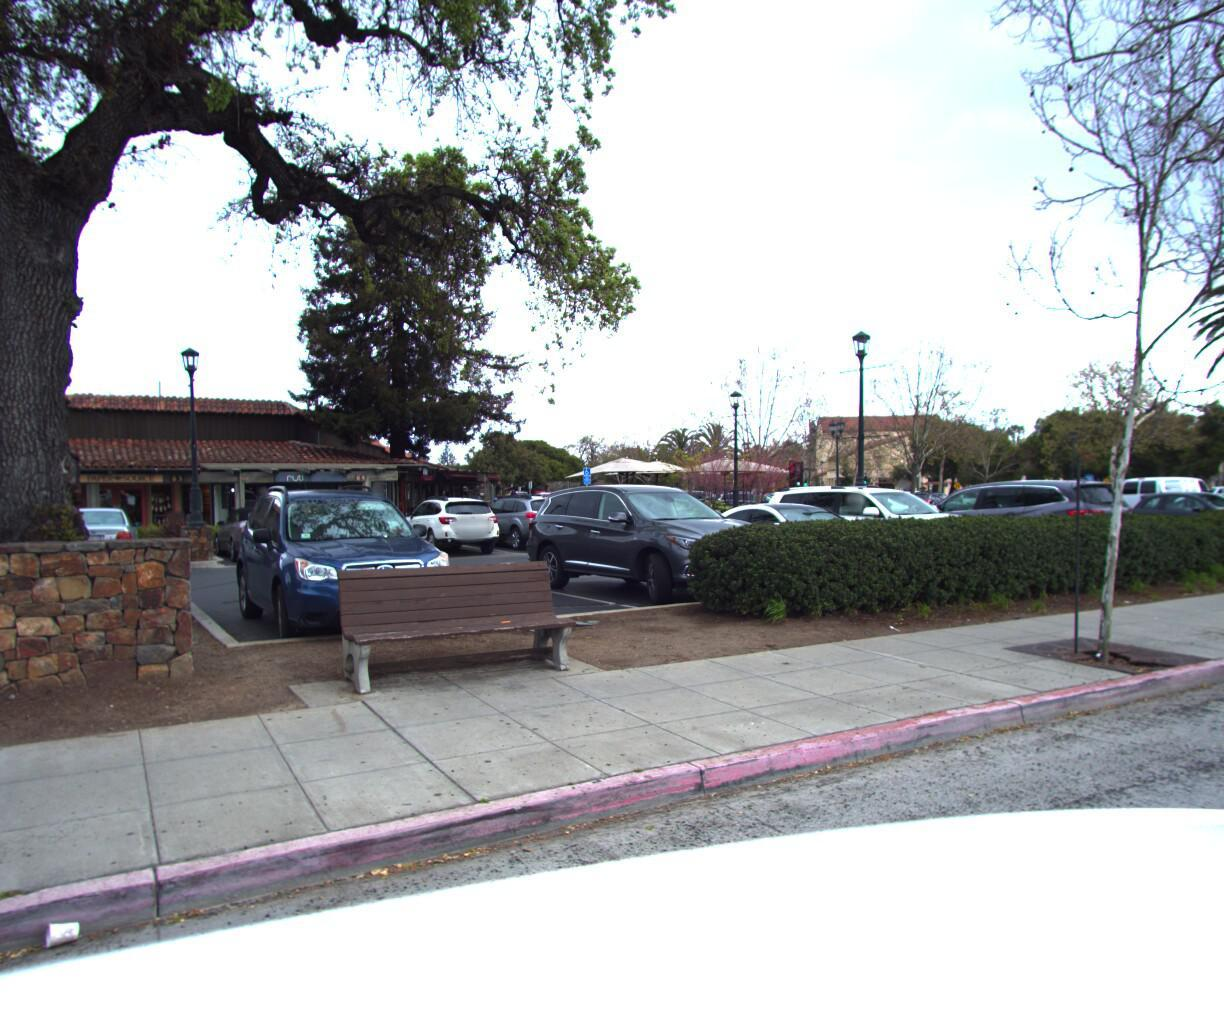car: (229, 476, 476, 667), (514, 478, 802, 620), (755, 478, 1016, 592), (893, 476, 1161, 583), (671, 500, 911, 600), (1100, 493, 1224, 559), (1114, 477, 1224, 529), (1148, 492, 1224, 556), (1195, 496, 1224, 551), (905, 491, 967, 517), (1201, 486, 1224, 518)
